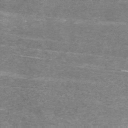finishing roll printing: (0, 11, 128, 26), (0, 73, 96, 84), (32, 48, 118, 60), (19, 55, 50, 60)
